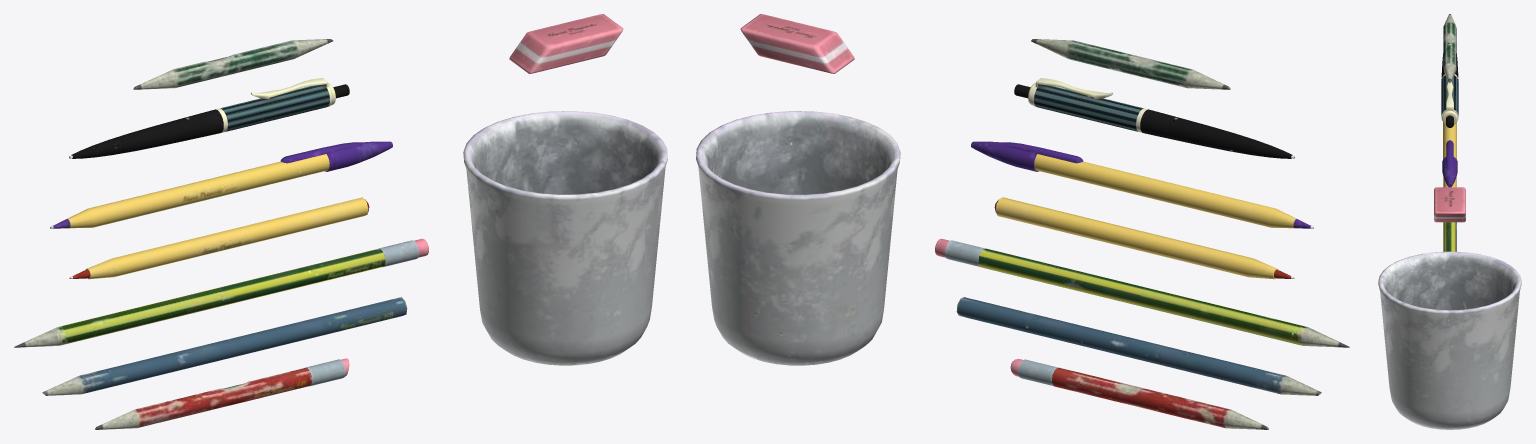
The model's file is stationery_supplies.glb.
The picture shows the model from 3 angles, left to right: view 1: azimuth 30°, elevation 25°; view 2: azimuth 150°, elevation 25°; view 3: azimuth 270°, elevation 25°; orthographic projection. The views are drawn at different scales.
Visible parts, largest first — view 1: stationery_supplies_pencilcup, stationery_supplies_pencil_new_a, stationery_supplies_pencil_new_b, stationery_supplies_pen_blue, stationery_supplies_pen_fancy, stationery_supplies_pen_red, stationery_supplies_pencil_used, stationery_supplies_eraser, stationery_supplies_pencil_old; view 2: stationery_supplies_pencilcup, stationery_supplies_pencil_new_a, stationery_supplies_pencil_new_b, stationery_supplies_pen_blue, stationery_supplies_pen_fancy, stationery_supplies_pen_red, stationery_supplies_pencil_used, stationery_supplies_eraser, stationery_supplies_pencil_old; view 3: stationery_supplies_pencilcup, stationery_supplies_eraser, stationery_supplies_pen_fancy, stationery_supplies_pen_blue, stationery_supplies_pencil_old, stationery_supplies_pencil_new_a.
Boxes of the visible parts, box(x1,y1,x2,y2) form: stationery_supplies_pencilcup: box(463, 111, 667, 365); stationery_supplies_pencil_new_a: box(14, 238, 428, 347); stationery_supplies_pencil_new_b: box(42, 297, 407, 395); stationery_supplies_pen_blue: box(50, 141, 392, 228); stationery_supplies_pen_fancy: box(69, 78, 349, 158); stationery_supplies_pen_red: box(69, 197, 369, 279); stationery_supplies_pencil_used: box(95, 358, 349, 429); stationery_supplies_eraser: box(509, 14, 623, 73); stationery_supplies_pencil_old: box(133, 39, 333, 89); stationery_supplies_pencilcup: box(696, 111, 900, 365); stationery_supplies_pencil_new_a: box(935, 238, 1349, 347); stationery_supplies_pencil_new_b: box(956, 297, 1321, 395); stationery_supplies_pen_blue: box(971, 141, 1313, 228); stationery_supplies_pen_fancy: box(1014, 78, 1294, 158); stationery_supplies_pen_red: box(994, 197, 1294, 279); stationery_supplies_pencil_used: box(1010, 359, 1268, 429); stationery_supplies_eraser: box(740, 14, 854, 73); stationery_supplies_pencil_old: box(1031, 39, 1230, 89); stationery_supplies_pencilcup: box(1378, 251, 1521, 429); stationery_supplies_eraser: box(1434, 187, 1465, 222); stationery_supplies_pen_fancy: box(1441, 53, 1458, 127); stationery_supplies_pen_blue: box(1442, 122, 1457, 187); stationery_supplies_pencil_old: box(1443, 14, 1456, 82); stationery_supplies_pencil_new_a: box(1443, 222, 1456, 251).
Bounding box in the file's own units: 0.3019 × 0.1643 × 0.0837.
1 material, 1 textured.
